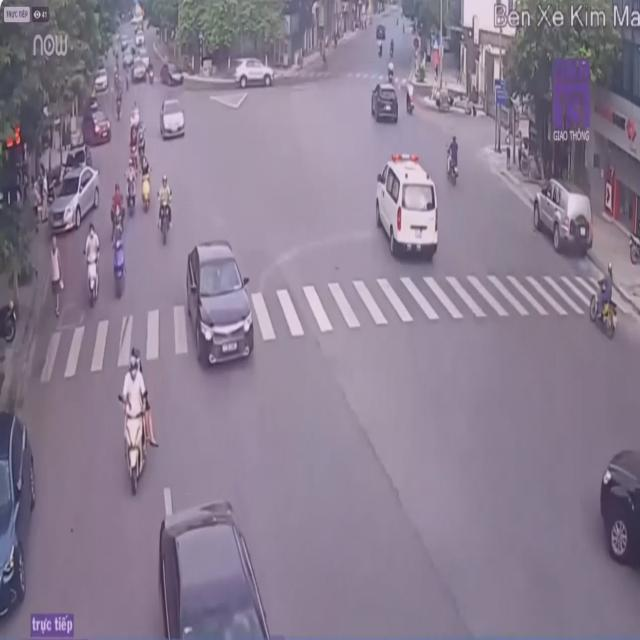car: (157, 499, 279, 640), (190, 244, 256, 374), (0, 411, 36, 625), (596, 442, 640, 610), (375, 154, 441, 264), (532, 176, 593, 258), (52, 168, 98, 232), (234, 57, 274, 90), (160, 98, 183, 142), (370, 84, 397, 121)
motorbike: (117, 350, 157, 496), (586, 265, 620, 340), (84, 222, 104, 302), (156, 175, 176, 246), (110, 234, 126, 300), (446, 134, 462, 188), (126, 161, 140, 215), (138, 159, 152, 211), (109, 184, 124, 231)
